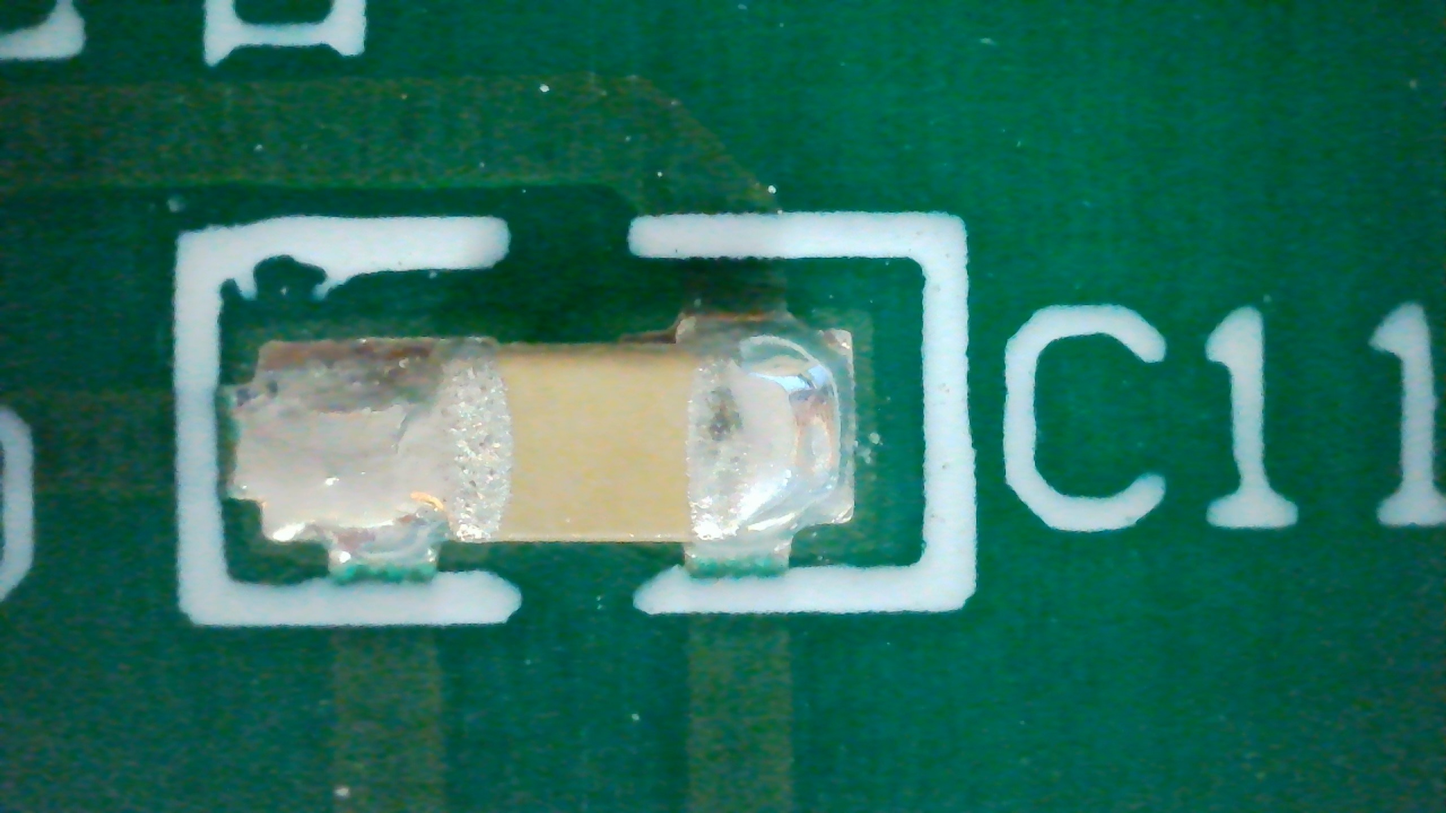OK: (225, 309, 855, 578)
